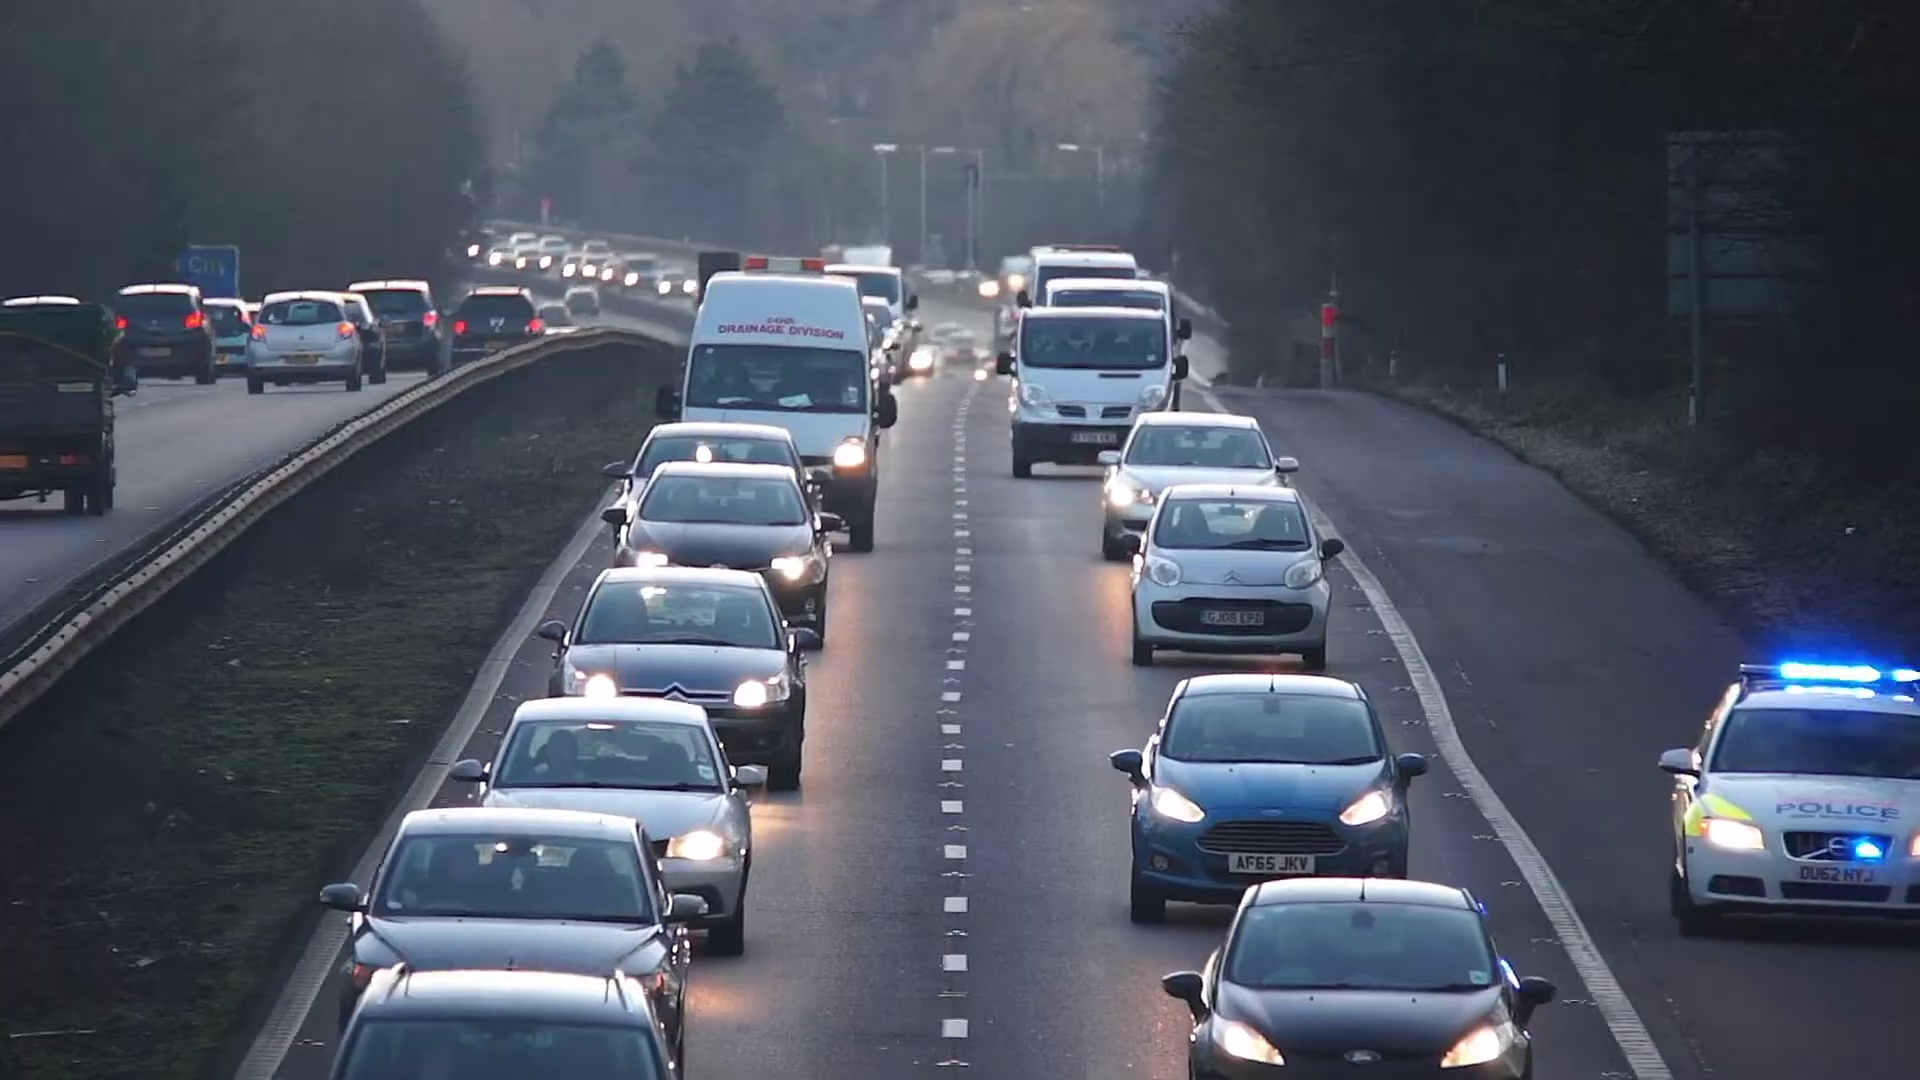license_plate: (1793, 861, 1886, 890), (1228, 851, 1313, 875)
